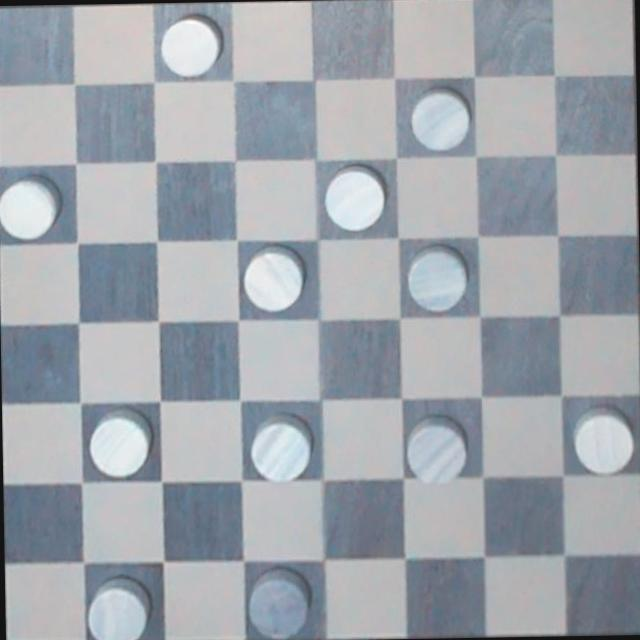BOARD: (0, 0, 640, 640)
white: (238, 557, 319, 640), (80, 404, 162, 482), (241, 409, 318, 486), (400, 84, 478, 160), (235, 240, 311, 318), (156, 5, 230, 84), (78, 571, 162, 640), (404, 240, 478, 313), (319, 155, 387, 231), (572, 398, 636, 473), (400, 421, 473, 486), (0, 169, 64, 242)
